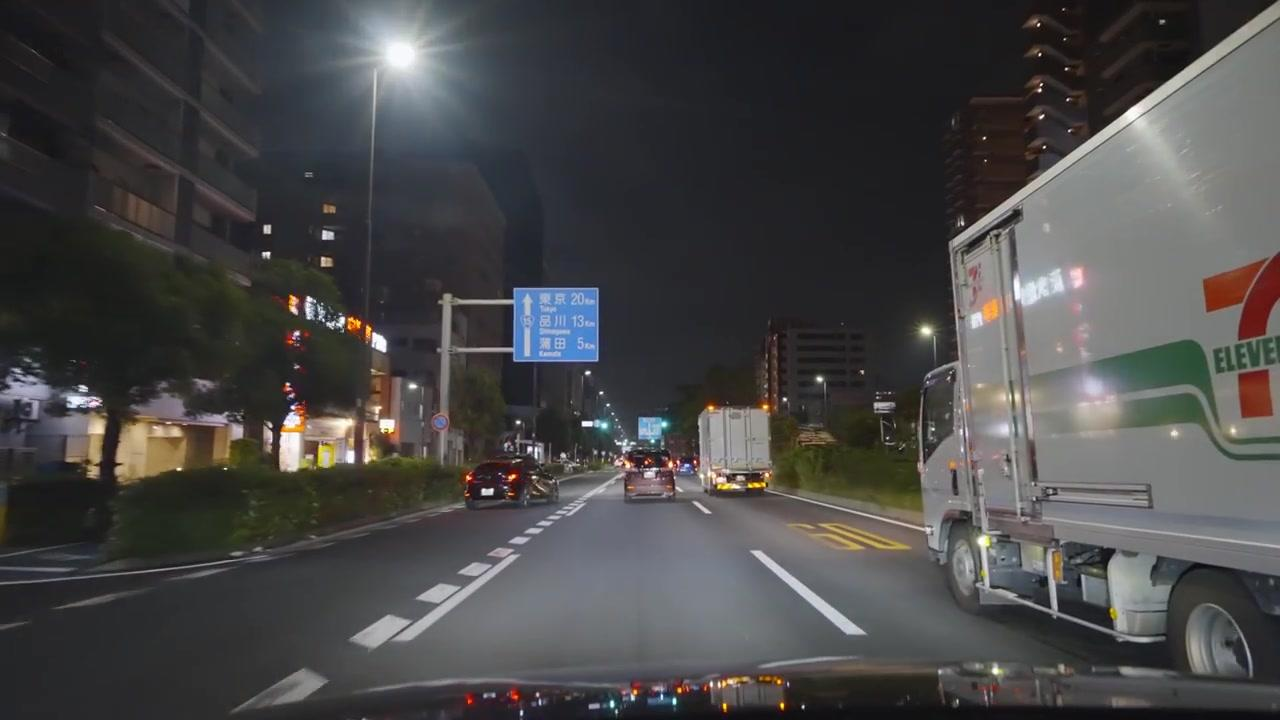car: (936, 661, 1041, 711), (463, 456, 558, 509), (624, 455, 677, 501), (873, 392, 898, 443), (796, 427, 838, 446), (681, 459, 696, 472)
traffic light: (346, 316, 366, 342), (287, 292, 301, 317)
truck: (917, 11, 1278, 683), (696, 407, 774, 495)
